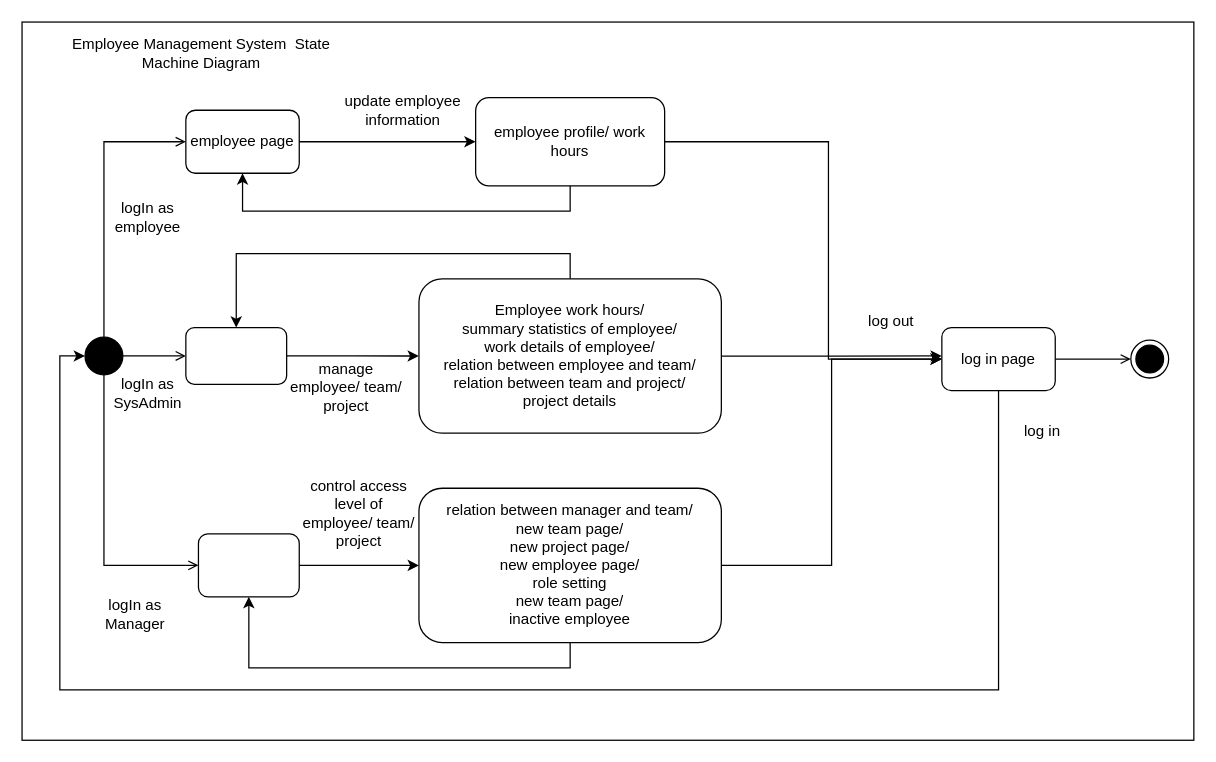
Image size: 1216x762. Some labels were removed from this diagram. Each missing label, with the centre of its shape:
Manager page: the point at 236,355
SysAdmin: the point at 248,565
